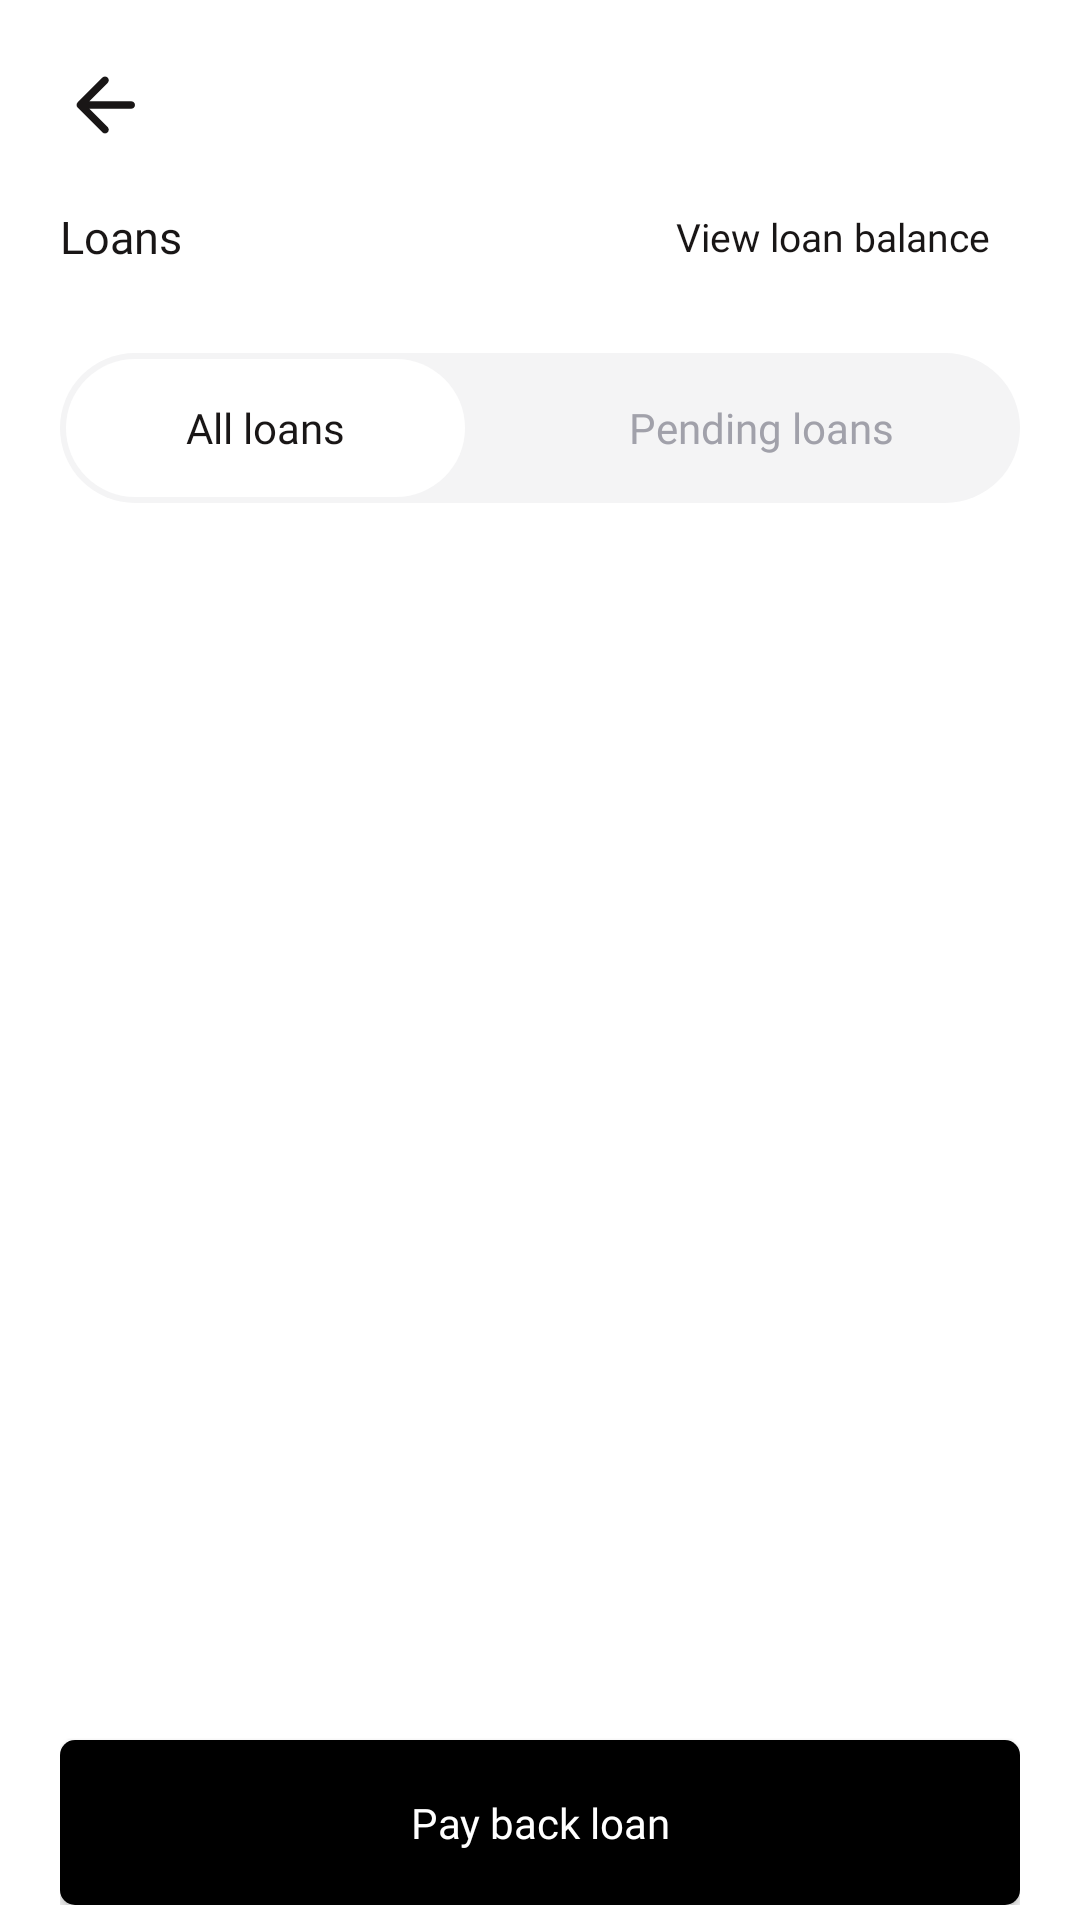

Icon bounding boxes for this 1080×1920 phone screenshot, format (x1, y1, x2, y2):
arrow left: (76, 76, 135, 134)
